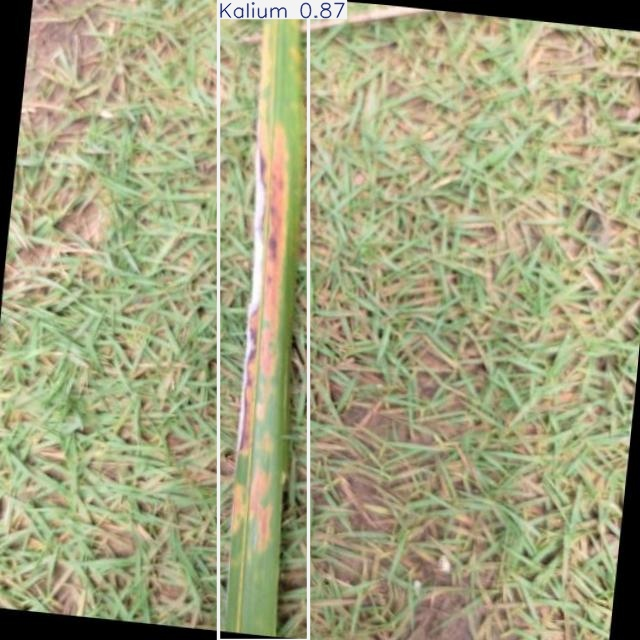Kalium: (219, 0, 308, 640)
